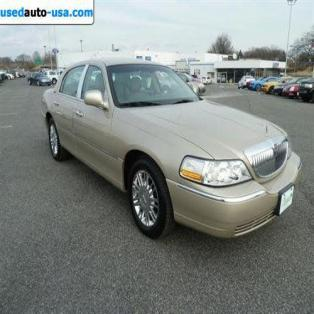Auto: (38, 57, 302, 241)
